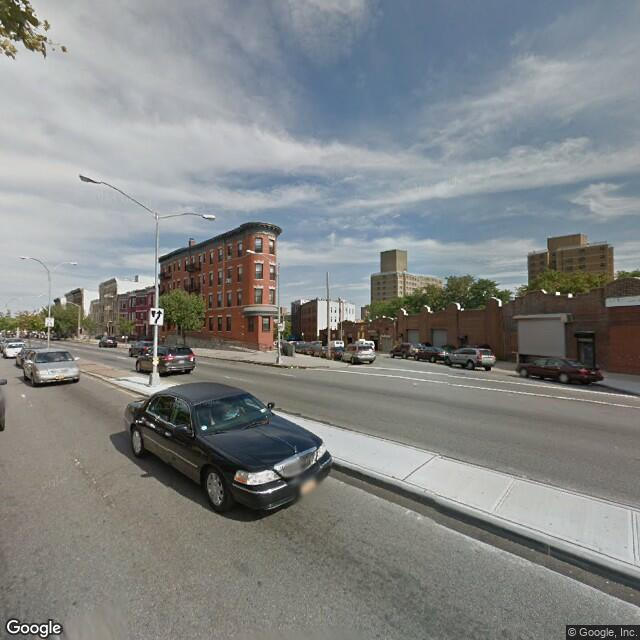litter: (14, 392, 37, 403), (288, 361, 298, 372)
